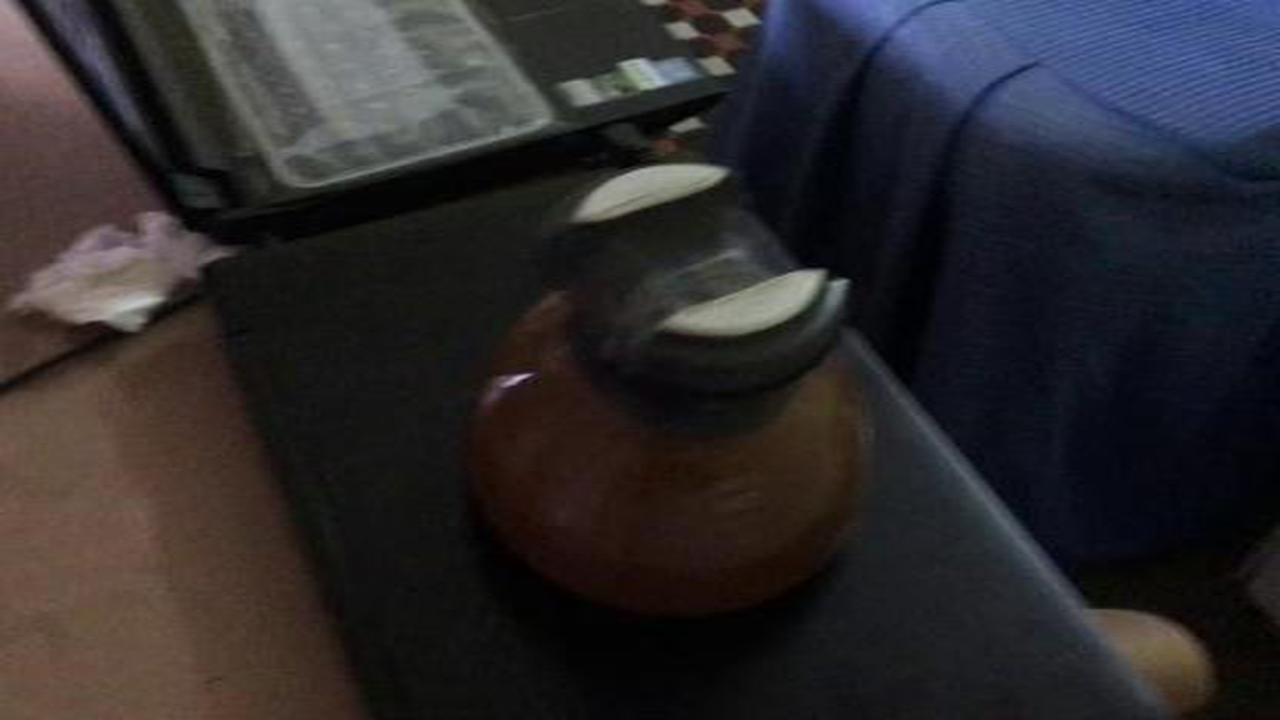insulator_pin: (440, 144, 905, 651)
